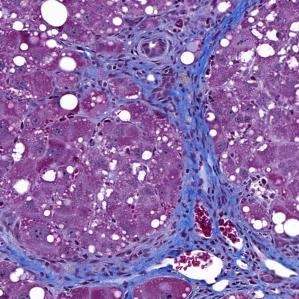fibrosis: (166, 118, 227, 256), (114, 34, 208, 109), (44, 247, 168, 293), (228, 234, 299, 298)
